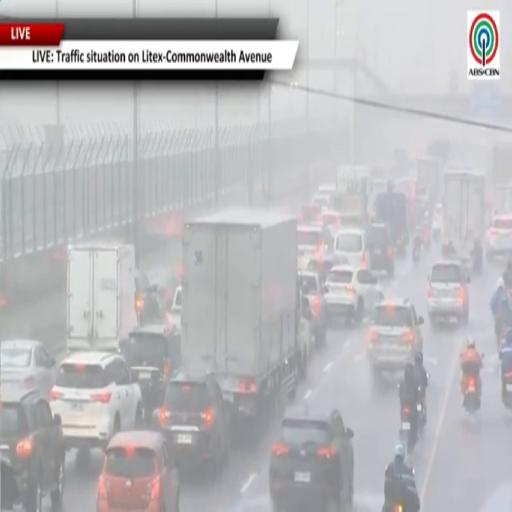car: (50, 351, 142, 453), (270, 409, 354, 511), (0, 386, 65, 511), (156, 373, 230, 477), (97, 431, 179, 511), (121, 325, 181, 420), (367, 299, 424, 382), (325, 266, 383, 324), (0, 340, 56, 397), (428, 261, 470, 325), (298, 271, 326, 346), (297, 290, 314, 377), (367, 223, 394, 276), (146, 269, 179, 311), (297, 226, 329, 268), (334, 229, 369, 266), (486, 214, 512, 260), (306, 254, 335, 282), (167, 284, 182, 328), (298, 203, 321, 226), (322, 210, 341, 237), (432, 203, 443, 239), (311, 193, 331, 211), (317, 184, 336, 196)
motorcycle: (400, 406, 416, 452), (462, 376, 480, 413), (417, 386, 426, 434), (471, 243, 483, 274), (502, 372, 511, 408), (423, 228, 430, 250), (412, 245, 420, 263), (432, 229, 440, 243), (393, 504, 404, 511)
truck: (182, 210, 301, 424), (67, 244, 137, 351), (442, 169, 486, 269), (333, 166, 369, 227), (416, 157, 442, 210), (491, 144, 511, 186), (492, 182, 511, 215)
